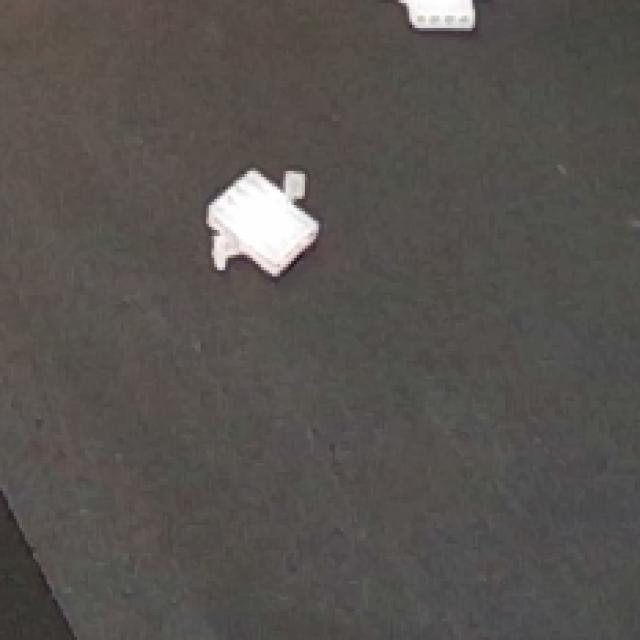Target: (203, 166, 338, 273), (381, 0, 502, 37)
